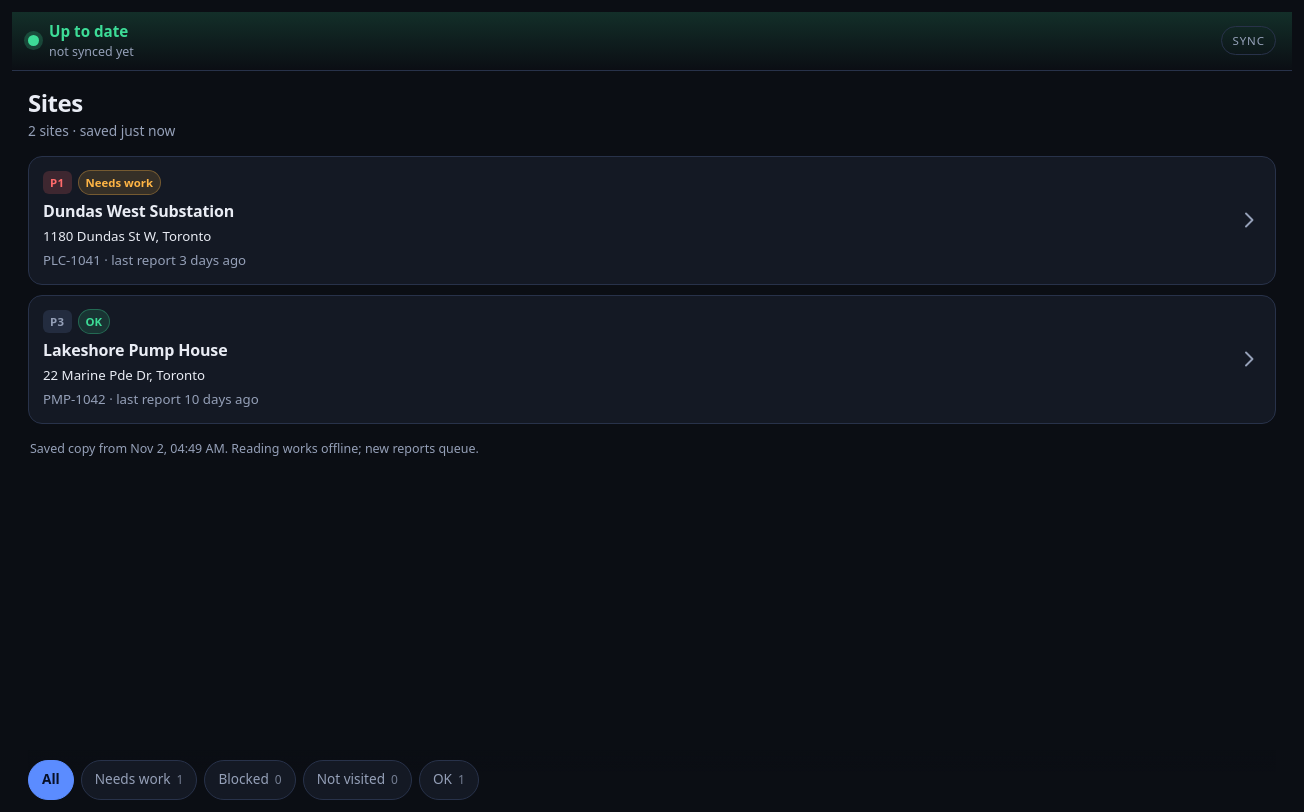
Test: the list screen › filters by status from controls inside thumb reach
Check: the heading "Dundas West Substation" is shown, box [43, 200, 234, 222]
Click the button "OK 1" at {"x": 449, "y": 780}, box [419, 760, 479, 800]
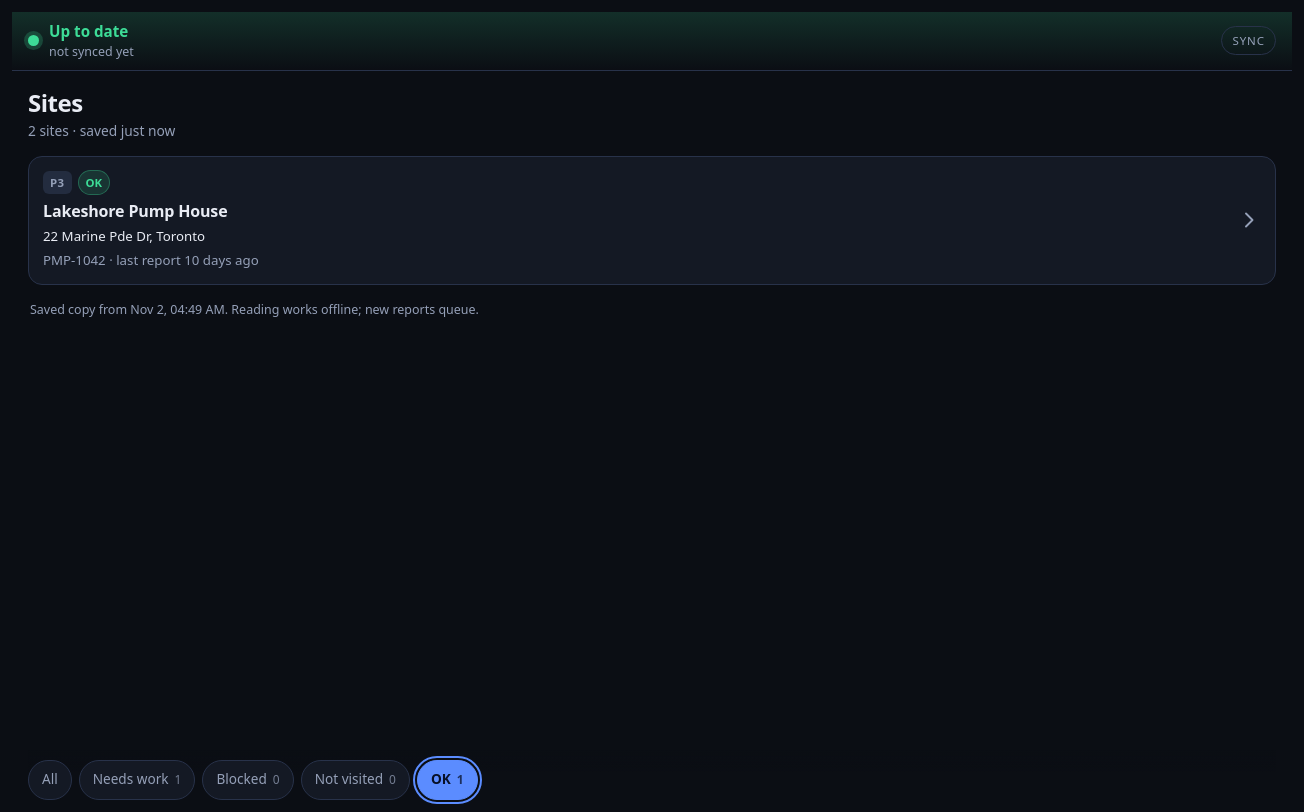
Check: the heading "Lakeshore Pump House" is shown, box [43, 200, 227, 222]
Check: the link "Dundas West Substation" is gone
